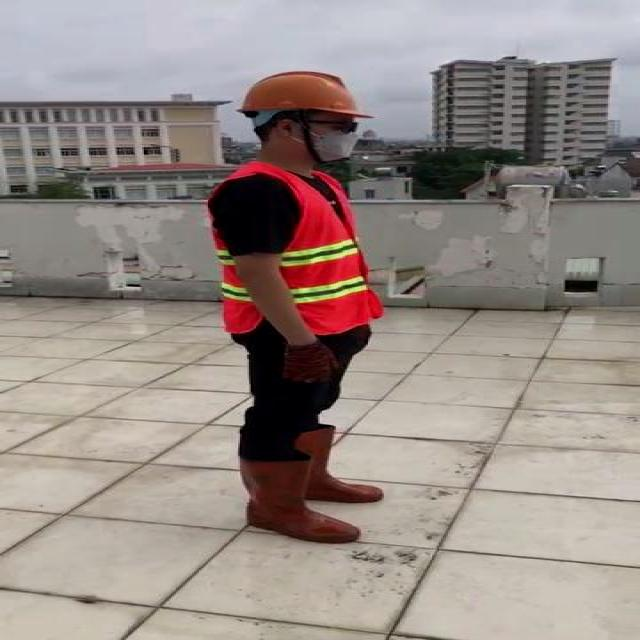boots: (238, 458, 361, 544), (292, 428, 384, 504)
face_mask: (300, 114, 368, 162)
glasses: (332, 116, 371, 136)
hand_glove: (282, 341, 340, 383)
head_helmet: (235, 68, 369, 120)
person: (184, 70, 408, 558)
vest: (208, 170, 388, 336)
